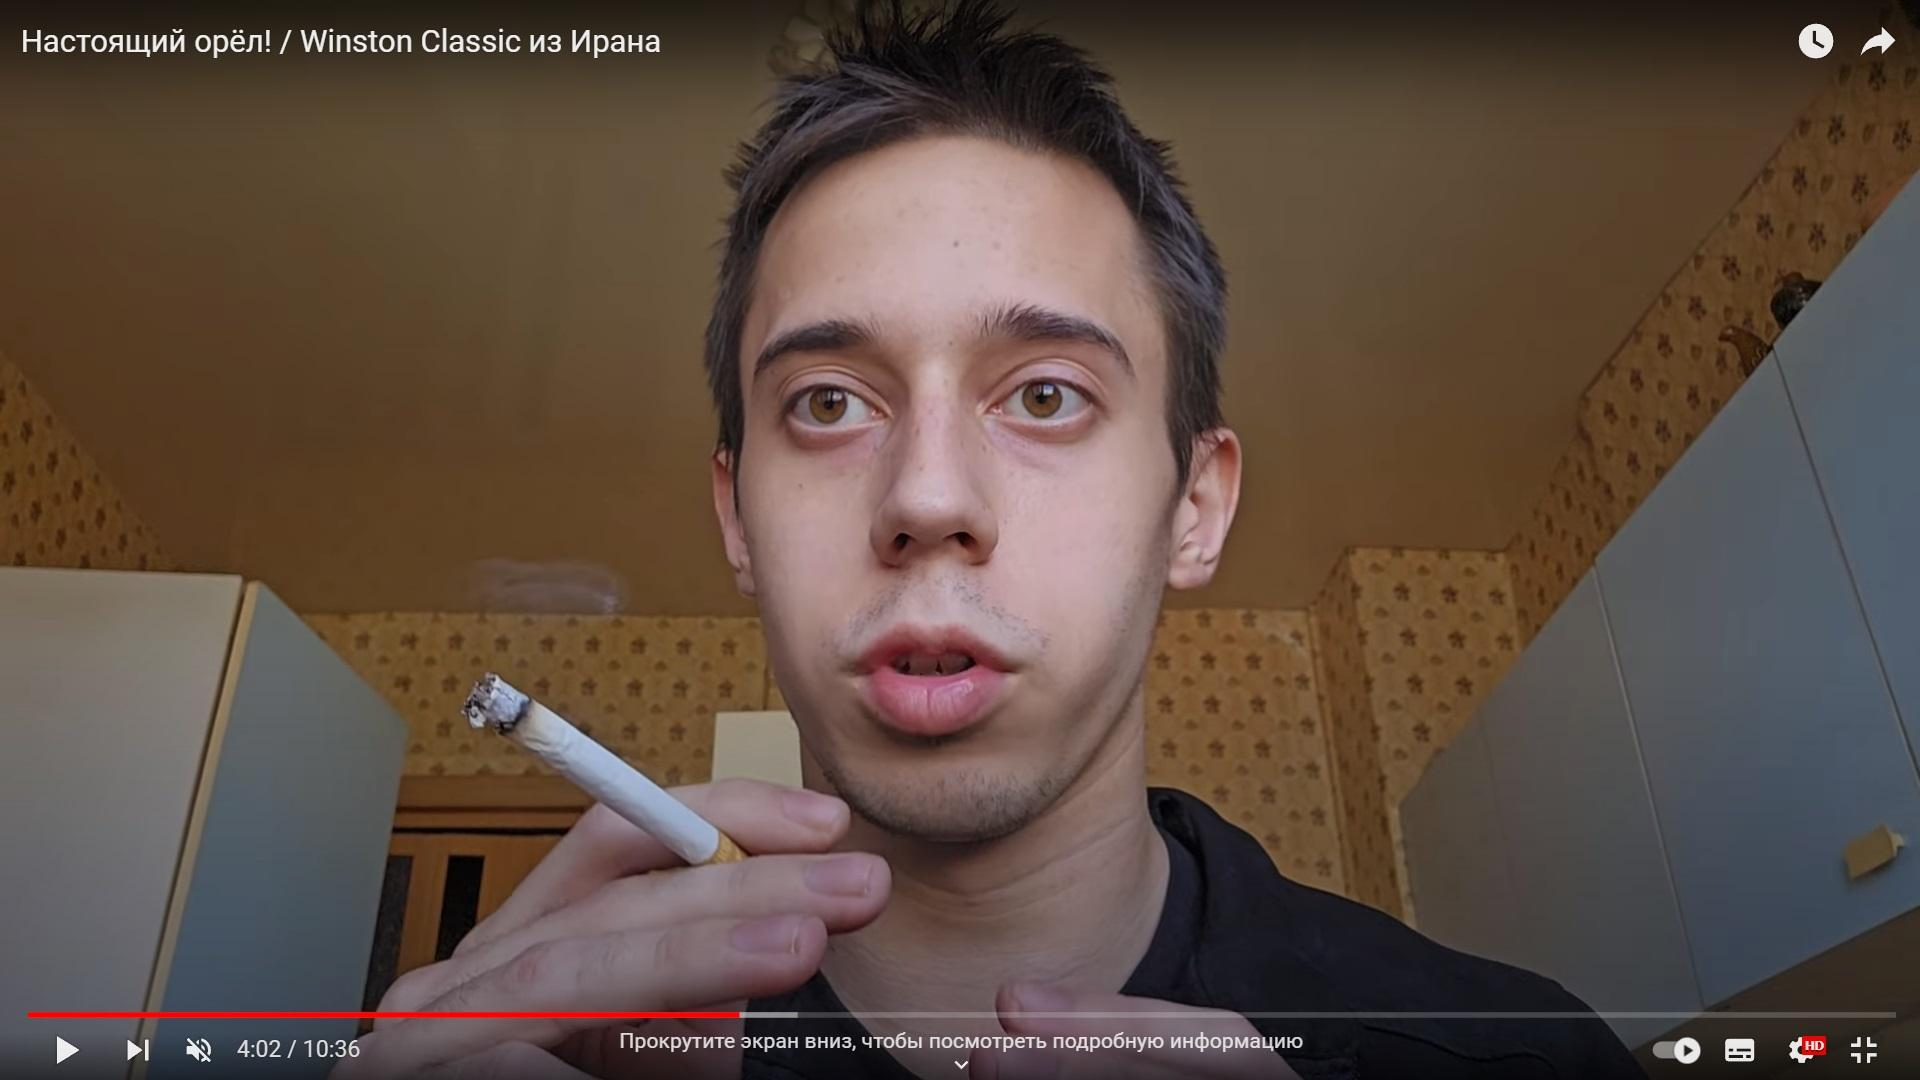cigarette: (462, 675, 742, 864)
